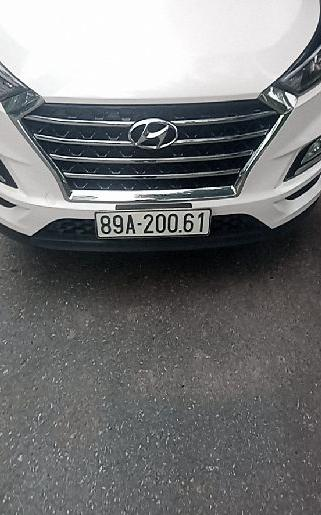Plate-iWeP: (99, 209, 210, 236)
